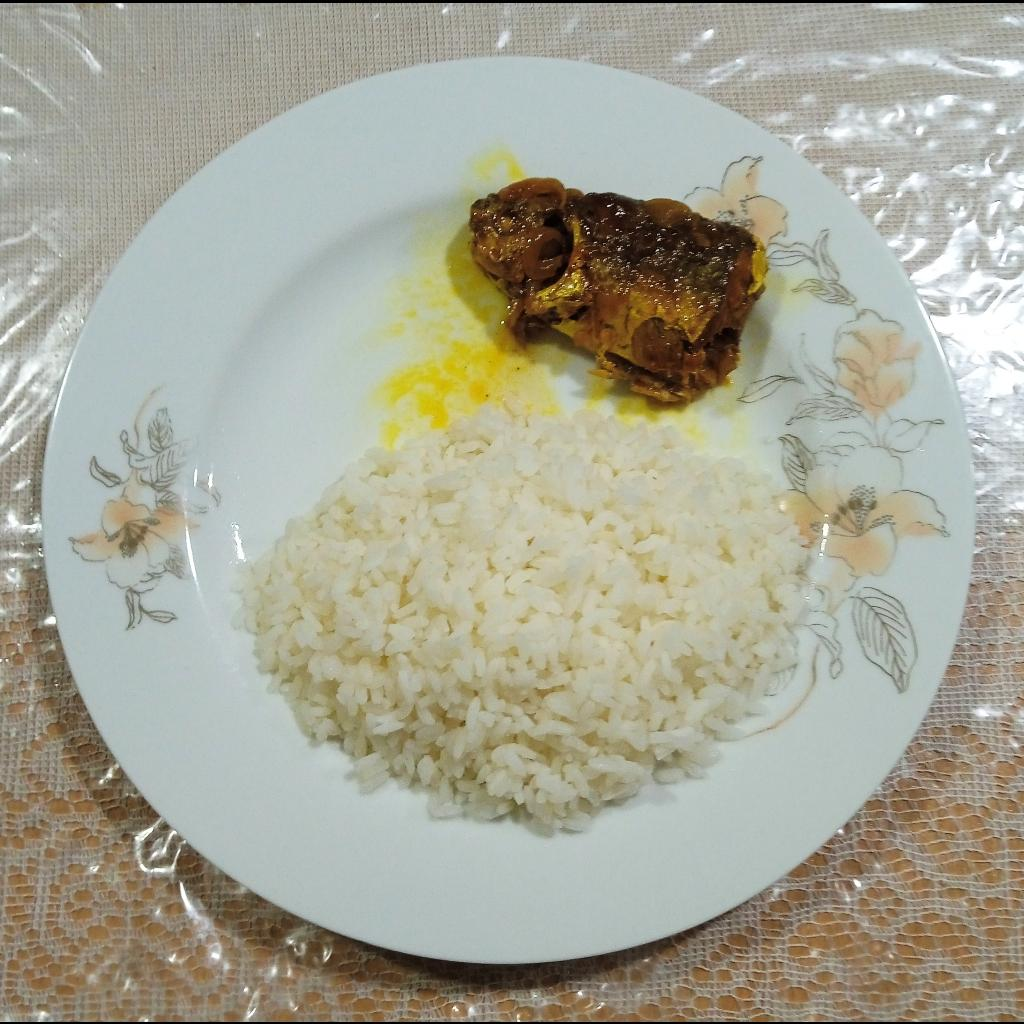fish: (470, 175, 768, 402)
rice: (232, 386, 812, 834)
